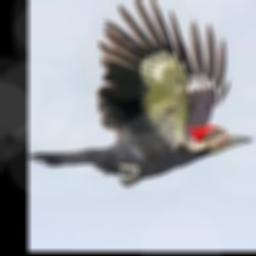Woodpecker: (29, 0, 255, 186)
